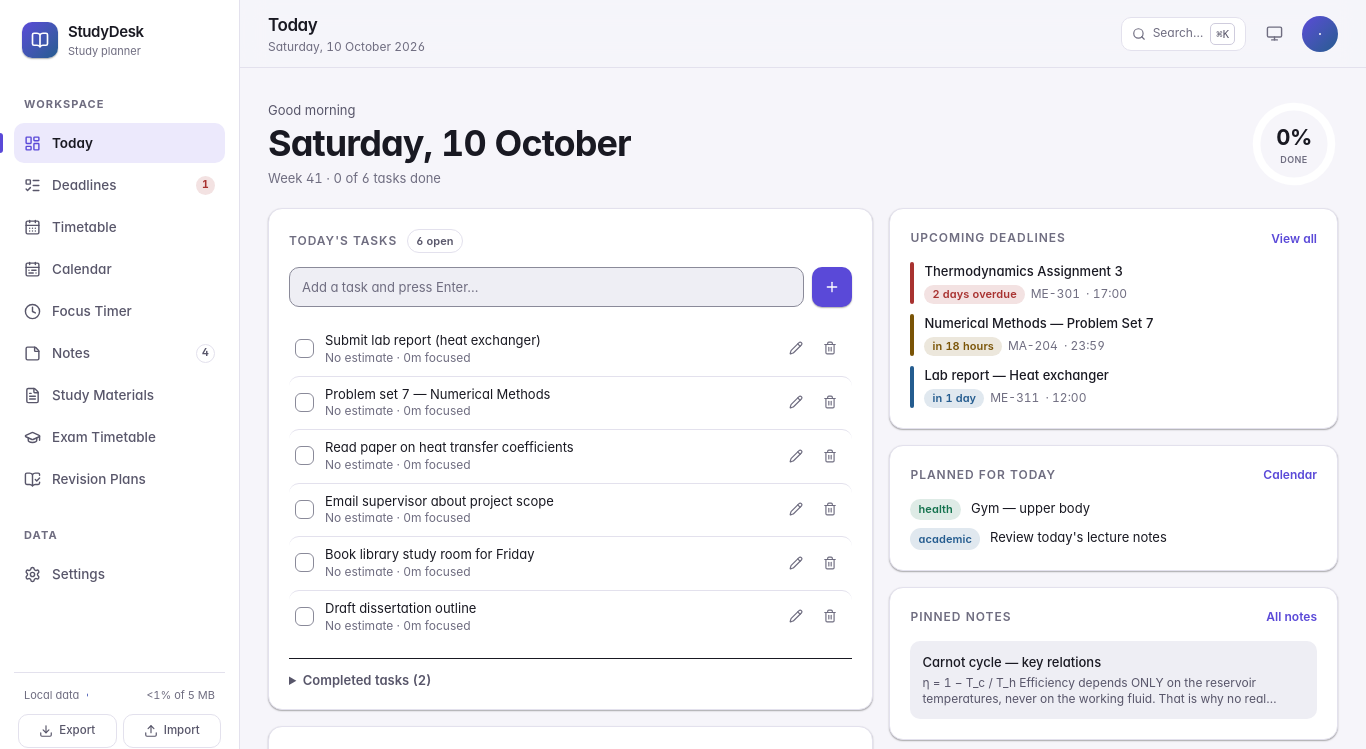
Test: data seeding › populates every panel from the sample term
Step 1. Click the link "Deadlines 1" → [120, 185], box [24,176,215,195]
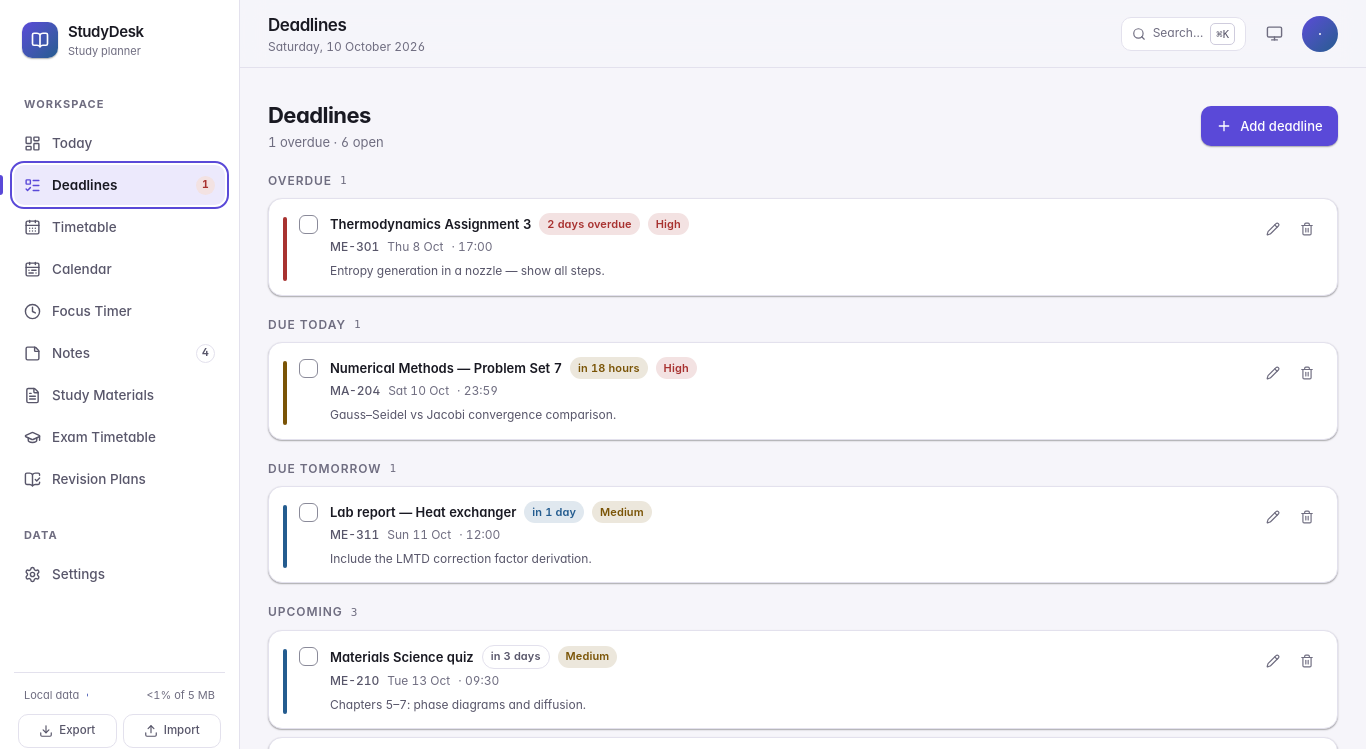
Result: the heading "Overdue 1" is shown at [268,173,347,188]
Result: the heading "Due today 1" is shown at [268,317,361,332]
